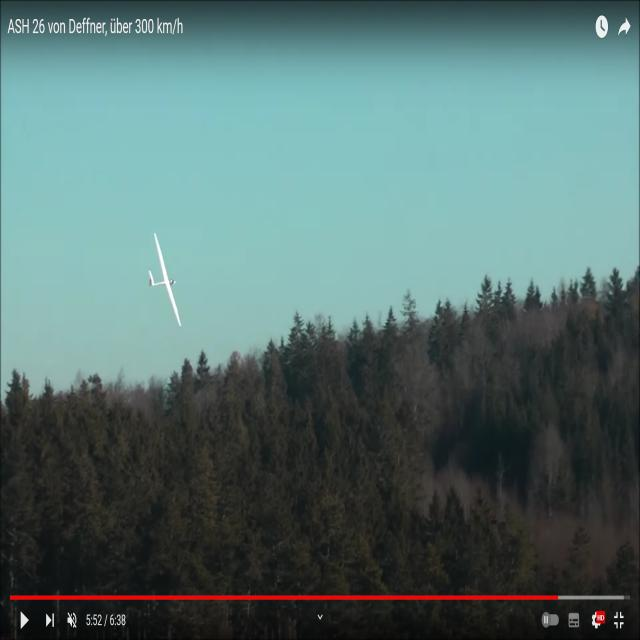iha: (148, 265, 181, 297)
